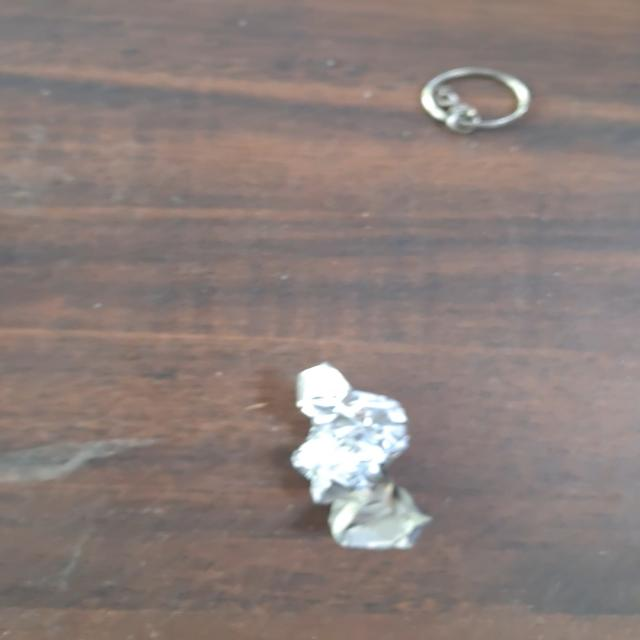Anorganik: (273, 353, 435, 550), (421, 65, 537, 135)
